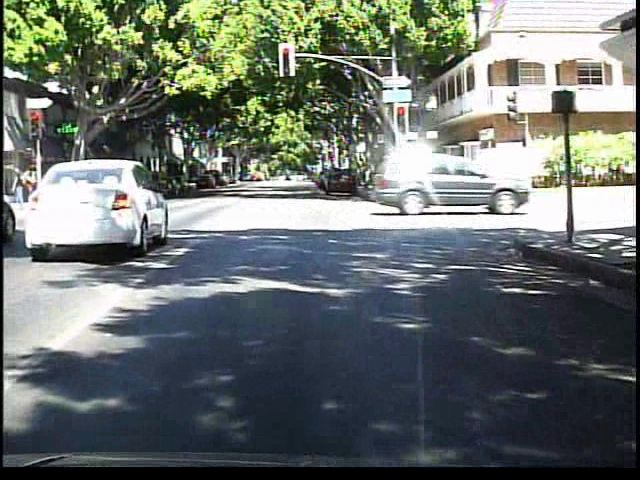person: (10, 159, 41, 206)
